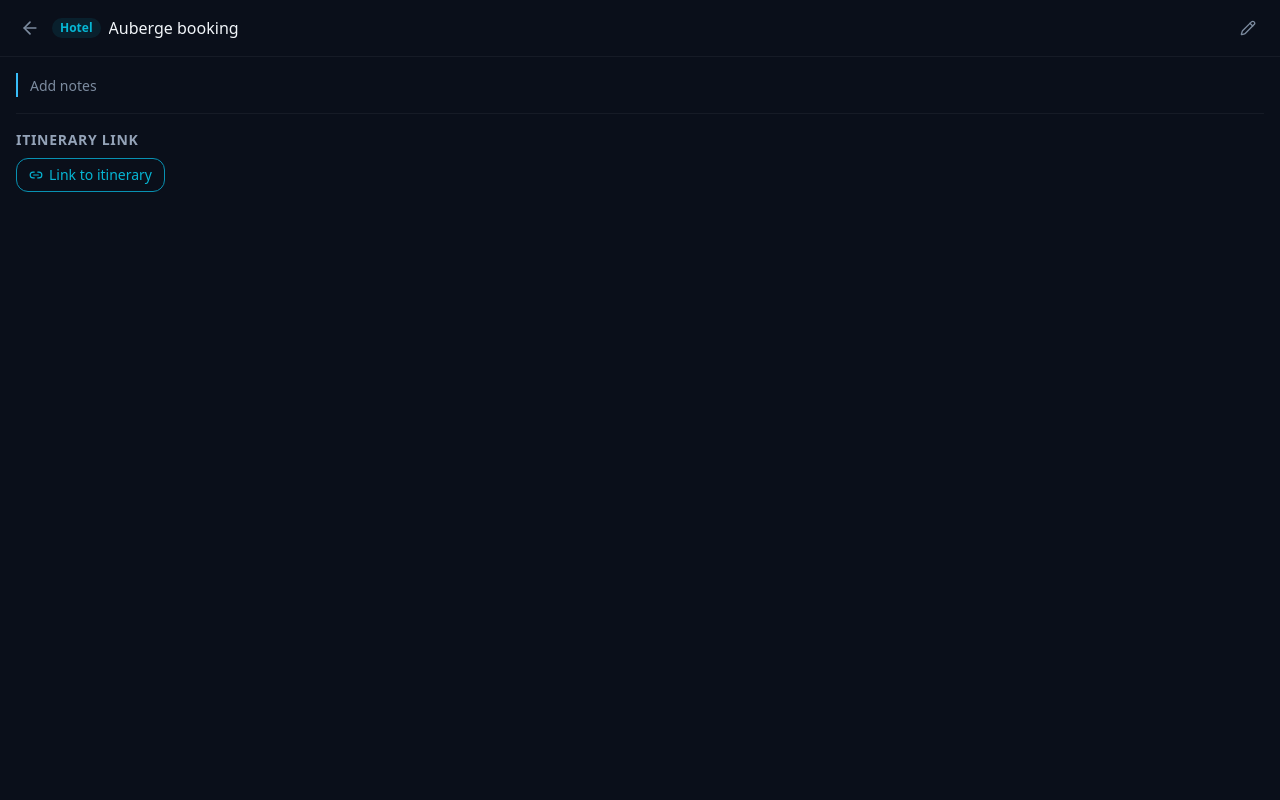
Test: an item with no notes › offers a way to add them
This screenshot has width=1280, height=800.
What coordinates should you click on to do the following:
click the button with test id "detail-add-notes"
I would click on:
 (63, 86)
Its box is [30,76,97,96].
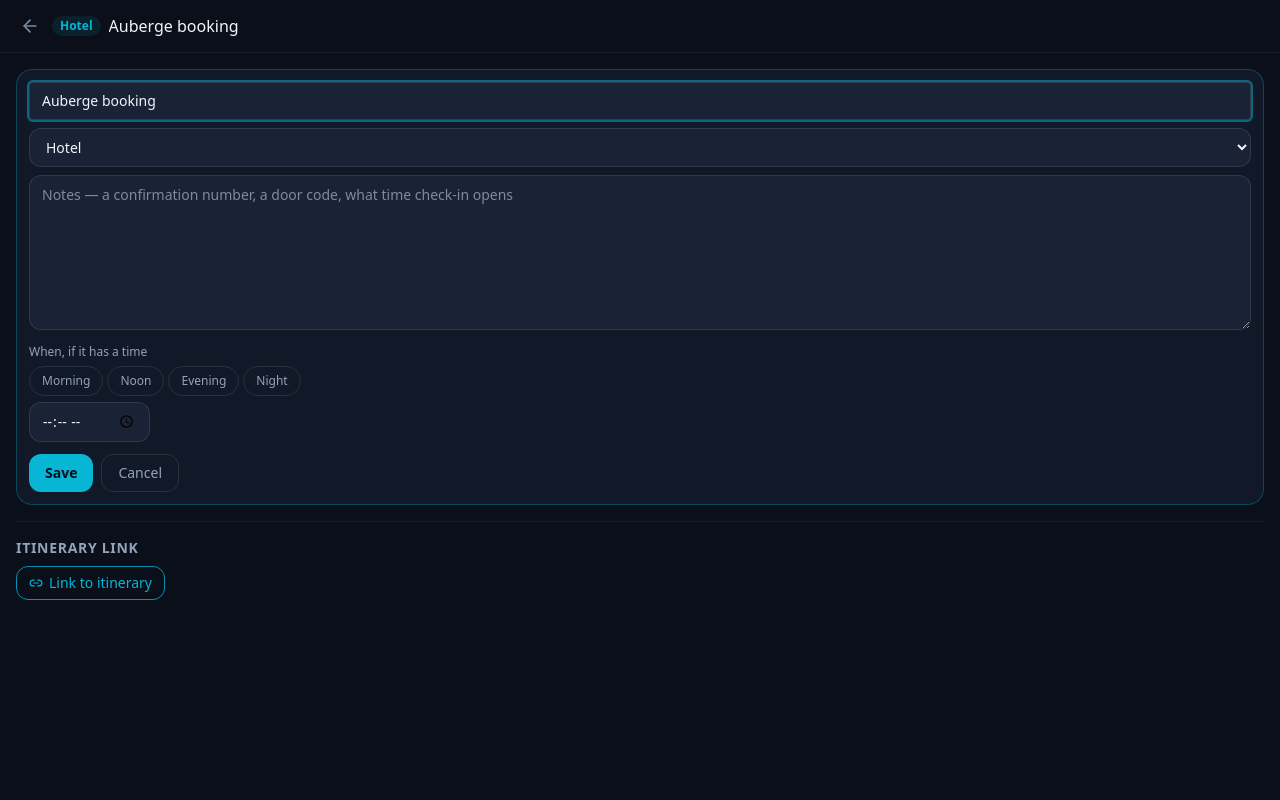
Expected: the text box with test id "detail-body-input" is shown, [29,175,1251,330]
